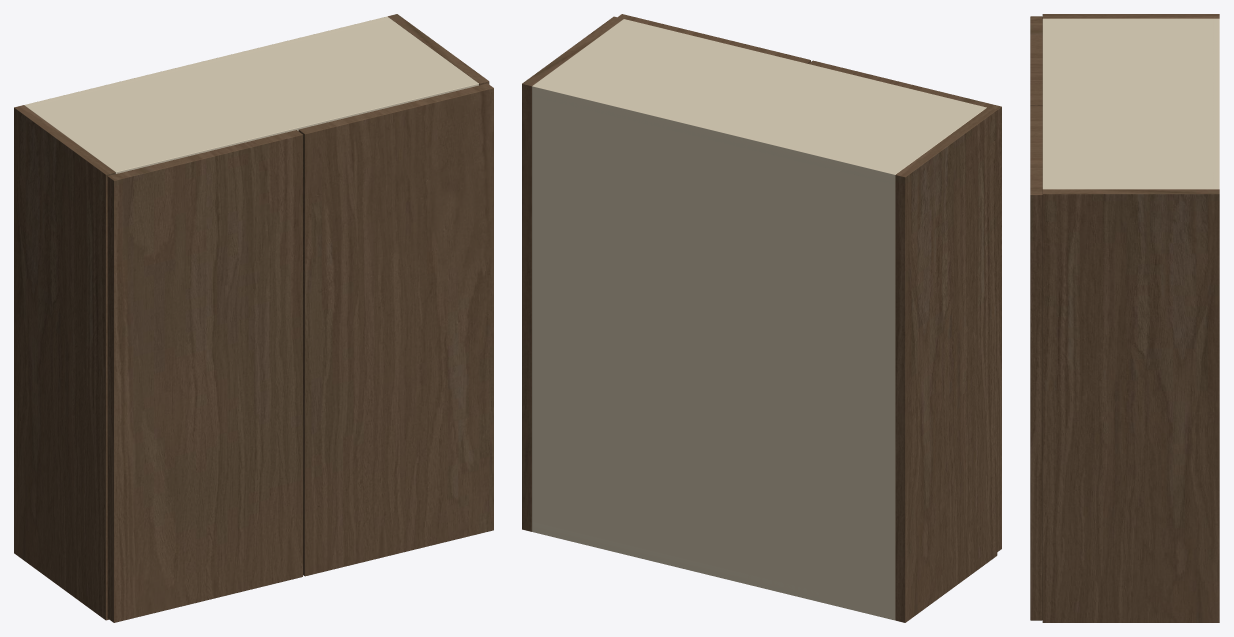
File: oppein-ply-mso-w2730.glb
3 views of the same model, side by side, from view 1: azimuth 30°, elevation 25°; view 2: azimuth 150°, elevation 25°; view 3: azimuth 270°, elevation 25° (orthographic). The views are drawn at different scales.
Visible parts, largest first — view 1: Door, Door.001, Cabinet side, Cabinet top, Cabinet back, Cabinet side.001; view 2: Cabinet back, Cabinet side, Cabinet top, Cabinet side.001, Door, Cabinet bottom, Door.001; view 3: Cabinet side.001, Cabinet top, Door.001, Cabinet back, Door, Cabinet side.
Part boxes in pixels (x1=…): Door: x1=107, y1=130, x2=302, y2=622; Door.001: x1=298, y1=83, x2=493, y2=576; Cabinet side: x1=14, y1=105, x2=115, y2=620; Cabinet top: x1=24, y1=19, x2=478, y2=173; Cabinet back: x1=25, y1=16, x2=389, y2=107; Cabinet side.001: x1=388, y1=14, x2=489, y2=85; Cabinet back: x1=532, y1=83, x2=898, y2=620; Cabinet side: x1=895, y1=107, x2=997, y2=622; Cabinet top: x1=532, y1=19, x2=986, y2=184; Cabinet side.001: x1=522, y1=16, x2=623, y2=531; Door: x1=808, y1=60, x2=1001, y2=551; Cabinet bottom: x1=532, y1=522, x2=892, y2=619; Door.001: x1=618, y1=14, x2=810, y2=63; Cabinet side.001: x1=1042, y1=189, x2=1219, y2=622; Cabinet top: x1=1042, y1=18, x2=1219, y2=189; Door.001: x1=1030, y1=106, x2=1042, y2=620; Cabinet back: x1=1212, y1=18, x2=1219, y2=189; Door: x1=1030, y1=16, x2=1042, y2=105; Cabinet side: x1=1042, y1=14, x2=1219, y2=18.
Size of the model in its own units: 0.6858 by 0.762 by 0.3048.
2 materials, 1 textured.
